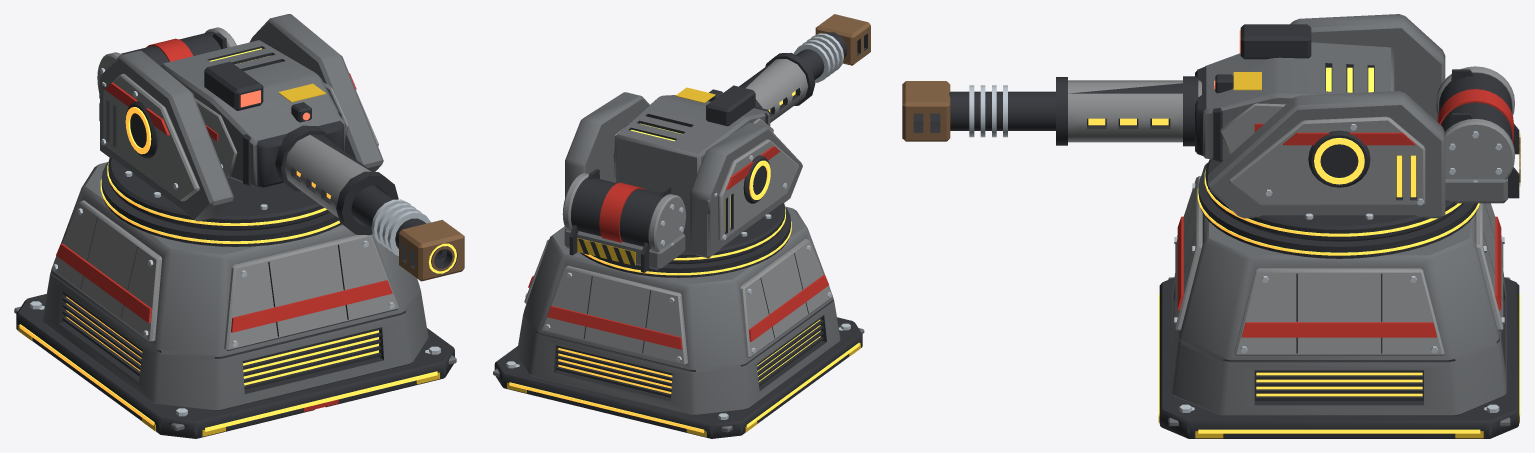
File: R4W_Basic.glb
3 renders of one model, left to right at view 1: azimuth 30°, elevation 25°; view 2: azimuth 150°, elevation 25°; view 3: azimuth 270°, elevation 25°, orthographic. The views are drawn at different scales.
Parts seen in each view (by area): view 1: R4W_Basic_Base, R4W_Basic_Yaw, R4W_Basic_Pitch, R4W_Basic_Barrel; view 2: R4W_Basic_Base, R4W_Basic_Yaw, R4W_Basic_Pitch, R4W_Basic_Barrel; view 3: R4W_Basic_Base, R4W_Basic_Yaw, R4W_Basic_Pitch, R4W_Basic_Barrel.
Part boxes in pixels (left/top/right/bottom): R4W_Basic_Base: left=14, top=161, right=456, bottom=438; R4W_Basic_Yaw: left=97, top=14, right=383, bottom=230; R4W_Basic_Pitch: left=160, top=40, right=398, bottom=235; R4W_Basic_Barrel: left=351, top=185, right=464, bottom=281; R4W_Basic_Base: left=493, top=206, right=864, bottom=438; R4W_Basic_Yaw: left=562, top=92, right=802, bottom=272; R4W_Basic_Pitch: left=614, top=52, right=815, bottom=205; R4W_Basic_Barrel: left=794, top=14, right=870, bottom=82; R4W_Basic_Base: left=1158, top=163, right=1520, bottom=438; R4W_Basic_Yaw: left=1204, top=14, right=1520, bottom=241; R4W_Basic_Pitch: left=1056, top=24, right=1394, bottom=161; R4W_Basic_Barrel: left=902, top=81, right=1170, bottom=141.
Bounding box in the file's own units: 0.513 × 0.496 × 0.8812.
